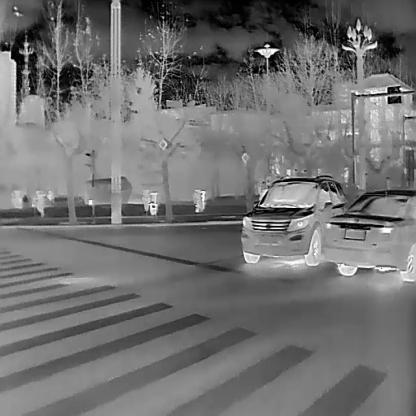car: (239, 172, 350, 266), (321, 188, 416, 282)
